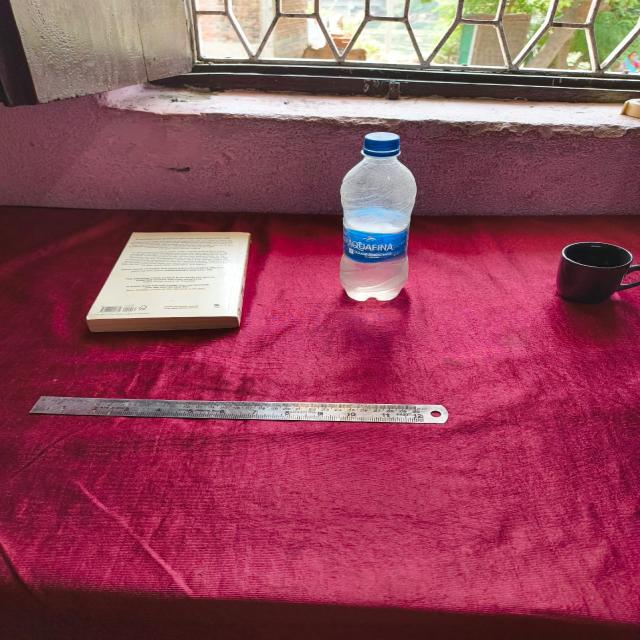Book: (88, 228, 254, 337)
Bottle: (329, 129, 415, 305)
Cup: (548, 238, 639, 308)
scale: (31, 389, 453, 428)
